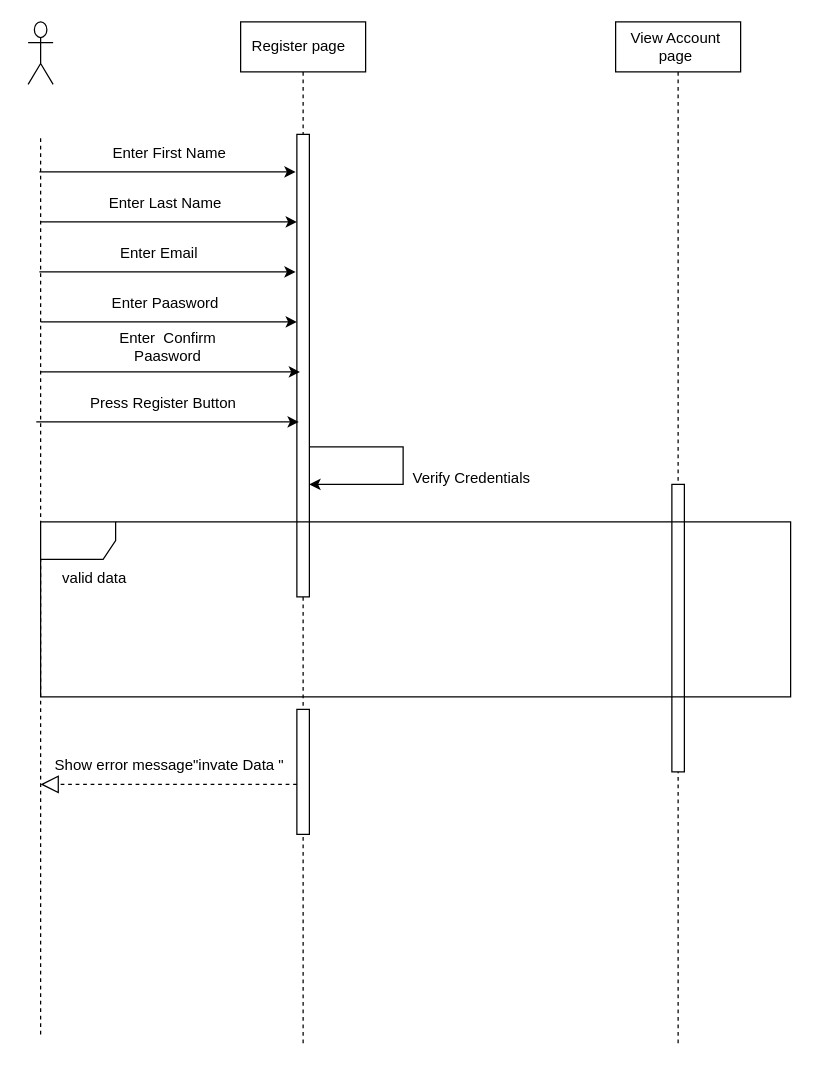
Some shapes in this 813 by 1069 pixel diagram are drawn without their labels. The box of each missing label's shape, as (x1, y1, x2, y2) in pixels:
alt: (39, 521, 791, 697)
Client: (27, 21, 53, 84)
